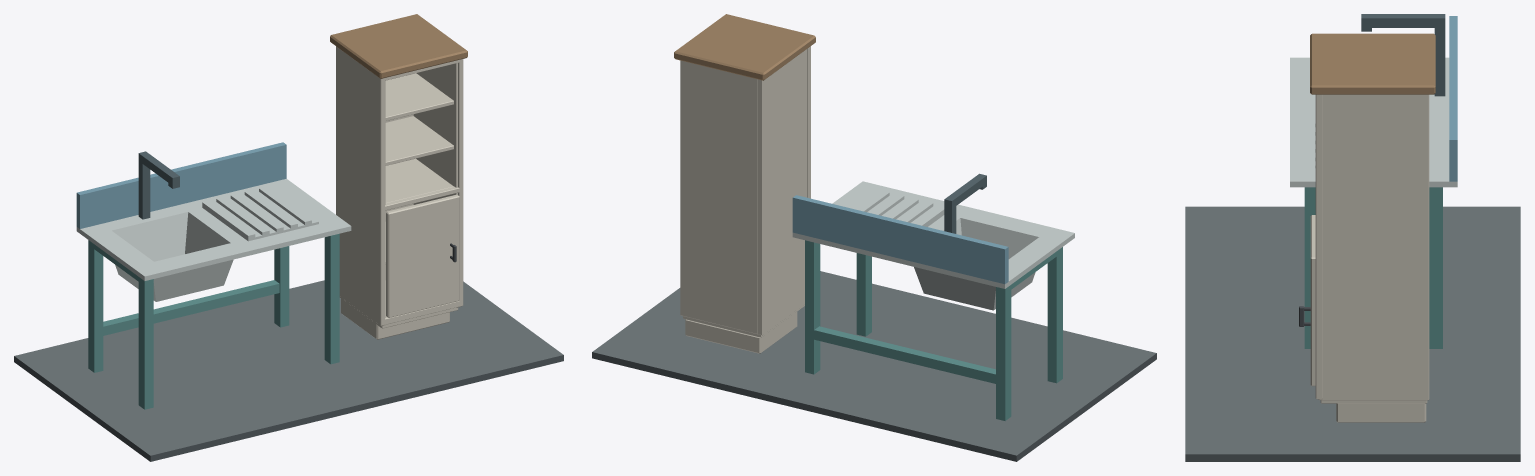
The picture shows the model from 3 angles, left to right: view 1: azimuth 30°, elevation 25°; view 2: azimuth 150°, elevation 25°; view 3: azimuth 270°, elevation 25°; orthographic projection. The views are drawn at different scales.
Visible parts, largest first — view 1: SCENE_ONLY__EquipmentCornerFloor, sink__IntegralOffsetDeepBasinAndSideDeck, cabinet__Side wall, cabinet__Left door, sink__RearBlueSplashPanel, cabinet__Crown cap, cabinet__Continuous front frame, sink__LeftOpenEndTrestle, sink__ContinuousFiveRibDrainboard, sink__RightOpenEndTrestle, cabinet__Side wall.001, sink__RearLowerFrameStretcher (+5 smaller); view 2: SCENE_ONLY__EquipmentCornerFloor, cabinet__Rear panel, cabinet__Side wall, sink__IntegralOffsetDeepBasinAndSideDeck, sink__RearBlueSplashPanel, cabinet__Crown cap, sink__LeftOpenEndTrestle, sink__RightOpenEndTrestle, sink__RearLowerFrameStretcher, cabinet__Recessed plinth, sink__ContinuousFiveRibDrainboard, cabinet__Side wall.001 (+2 smaller); view 3: SCENE_ONLY__EquipmentCornerFloor, cabinet__Side wall.001, cabinet__Crown cap, sink__IntegralOffsetDeepBasinAndSideDeck, sink__RightOpenEndTrestle, cabinet__Continuous front frame, sink__FixedHighAngularTapExterior, cabinet__Recessed plinth, sink__RearBlueSplashPanel, cabinet__Left door, cabinet__Cabinet floor.
Boxes of the visible parts, <box> form: SCENE_ONLY__EquipmentCornerFloor: <box>14,280,563,461</box>; sink__IntegralOffsetDeepBasinAndSideDeck: <box>76,178,351,301</box>; cabinet__Side wall: <box>336,46,385,326</box>; cabinet__Left door: <box>386,194,459,317</box>; sink__RearBlueSplashPanel: <box>76,142,286,228</box>; cabinet__Crown cap: <box>330,14,467,78</box>; cabinet__Continuous front frame: <box>378,59,463,325</box>; sink__LeftOpenEndTrestle: <box>88,240,153,409</box>; sink__ContinuousFiveRibDrainboard: <box>202,186,318,241</box>; sink__RightOpenEndTrestle: <box>274,233,339,364</box>; cabinet__Side wall.001: <box>413,63,460,307</box>; sink__RearLowerFrameStretcher: <box>103,280,279,335</box>; SCENE_ONLY__EquipmentCornerFloor: <box>592,271,1156,461</box>; cabinet__Rear panel: <box>684,61,757,334</box>; cabinet__Side wall: <box>758,49,806,335</box>; sink__IntegralOffsetDeepBasinAndSideDeck: <box>792,181,1074,310</box>; sink__RearBlueSplashPanel: <box>792,195,1008,284</box>; cabinet__Crown cap: <box>674,14,815,80</box>; sink__LeftOpenEndTrestle: <box>996,247,1062,420</box>; sink__RightOpenEndTrestle: <box>805,240,871,374</box>; sink__RearLowerFrameStretcher: <box>814,326,995,383</box>; cabinet__Recessed plinth: <box>685,312,797,353</box>; sink__ContinuousFiveRibDrainboard: <box>852,191,944,226</box>; cabinet__Side wall.001: <box>680,60,684,316</box>; SCENE_ONLY__EquipmentCornerFloor: <box>1185,206,1520,461</box>; cabinet__Side wall.001: <box>1318,94,1429,400</box>; cabinet__Crown cap: <box>1310,33,1435,94</box>; sink__IntegralOffsetDeepBasinAndSideDeck: <box>1290,57,1457,187</box>; sink__RightOpenEndTrestle: <box>1304,187,1442,348</box>; cabinet__Continuous front frame: <box>1315,94,1322,399</box>; sink__FixedHighAngularTapExterior: <box>1361,14,1445,96</box>; cabinet__Recessed plinth: <box>1336,403,1426,422</box>; sink__RearBlueSplashPanel: <box>1449,16,1457,181</box>; cabinet__Left door: <box>1310,215,1315,386</box>; cabinet__Cabinet floor: <box>1320,400,1427,403</box>.
Size of the model in its own units: 2.8 by 1.84 by 1.6.
